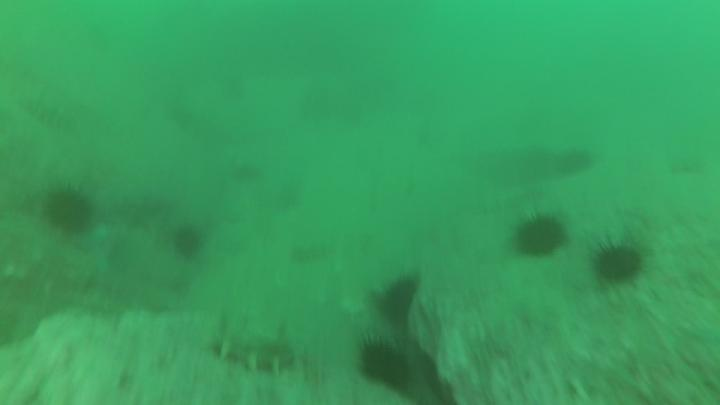echinus: (36, 182, 95, 242), (356, 338, 413, 396), (513, 209, 572, 261), (592, 234, 646, 287), (378, 276, 421, 331), (422, 353, 459, 405), (173, 225, 205, 261), (558, 147, 595, 177)
holothurian: (209, 320, 298, 379), (22, 94, 73, 134)
